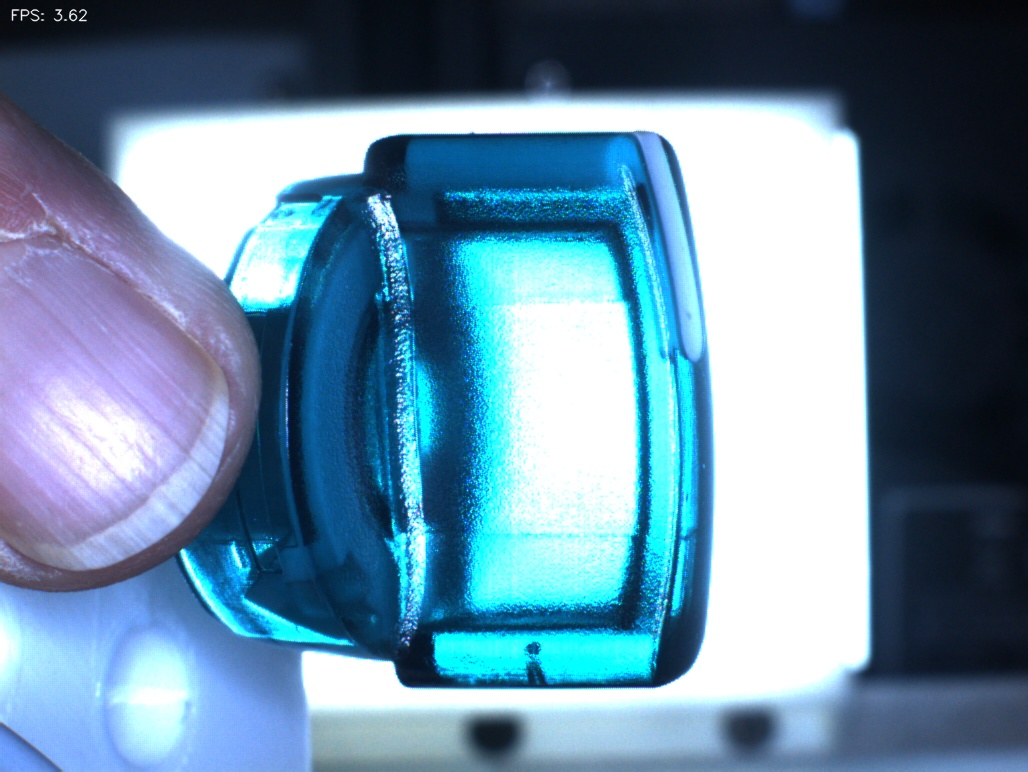Bulle: (496, 631, 589, 707)
